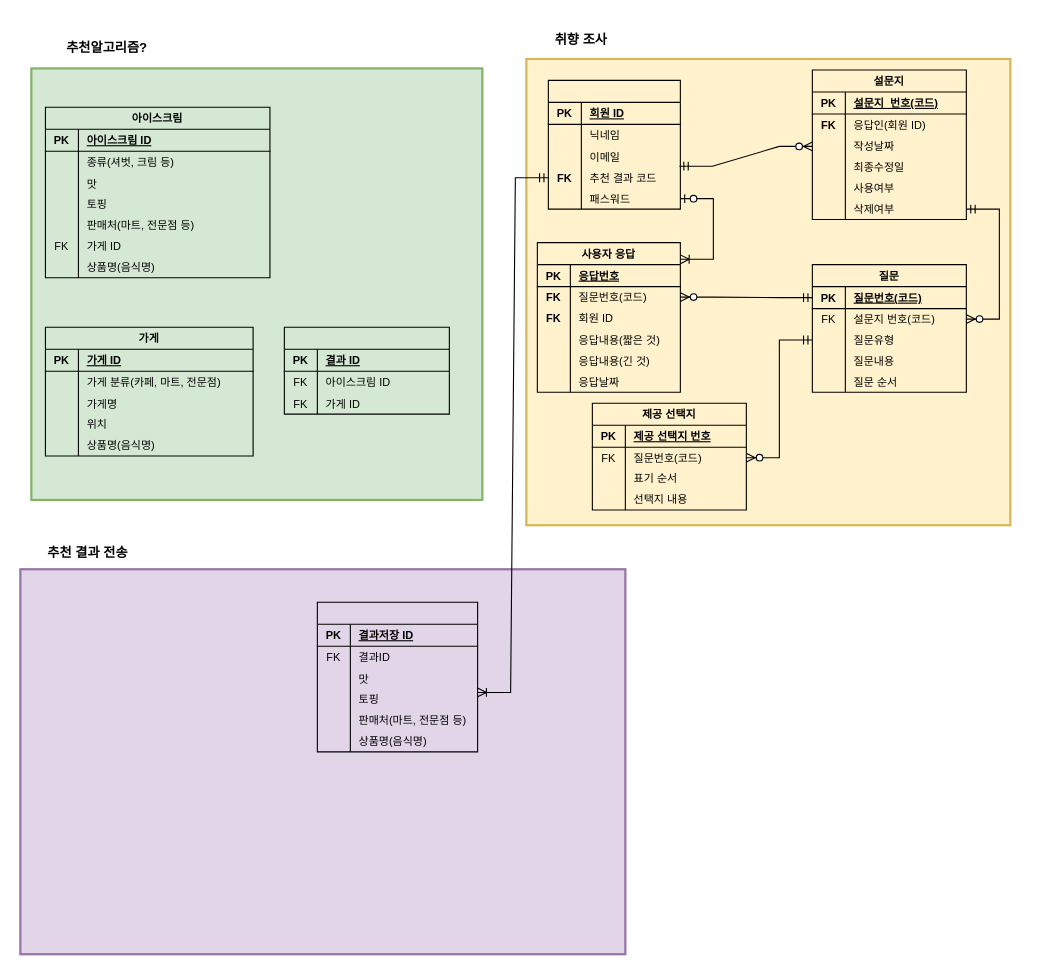
Image size: 1051x974. Some labels were removed from this diagram. Here are the shapes that lost their labels. From the top down, the box of each, then its label:
(547, 79, 680, 209): 회원
(283, 326, 449, 414): 추천결과
(316, 601, 478, 752): 추천결과넘기기...
